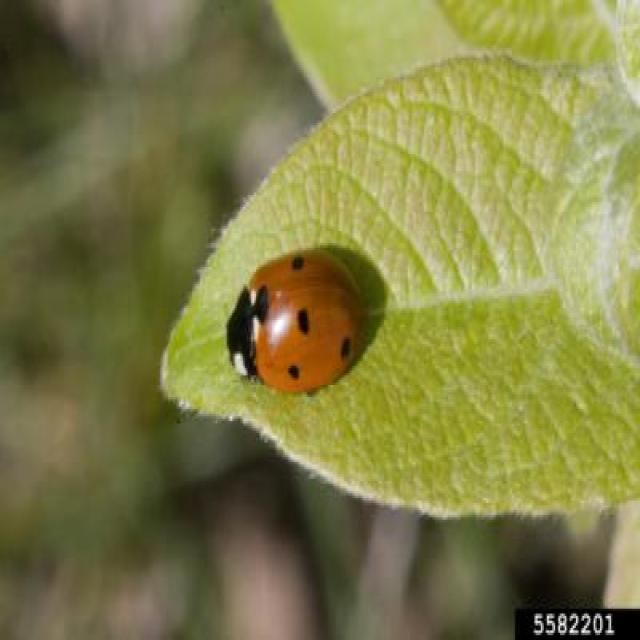body: (227, 246, 370, 390)
insect: (227, 245, 371, 392)
wings: (250, 245, 371, 392)
